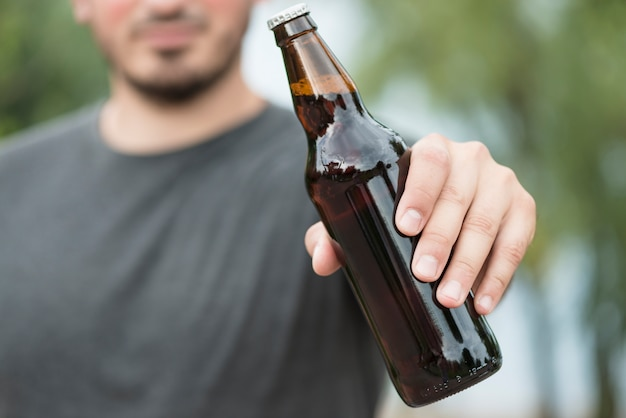alcohol: (267, 4, 503, 408)
